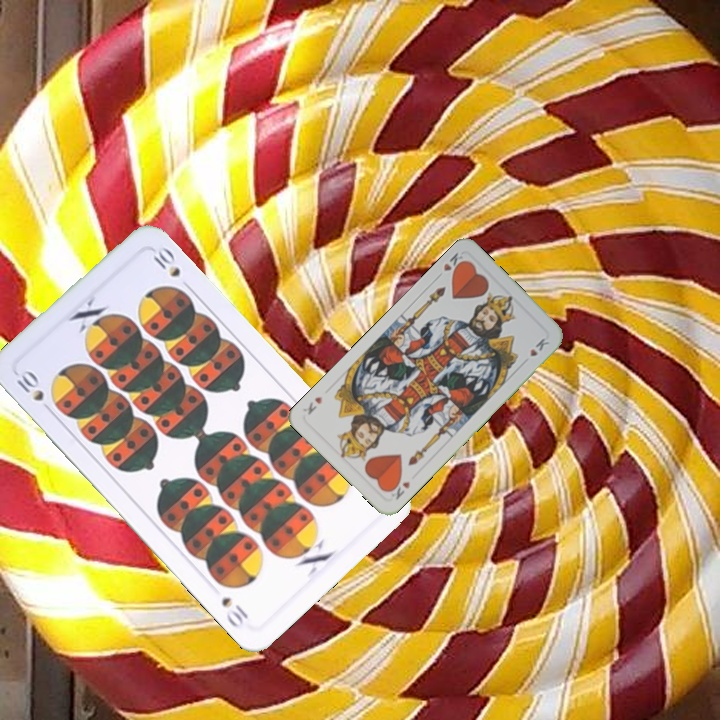HK: (432, 248, 469, 281), (384, 475, 413, 502)
S10: (12, 365, 47, 404)
